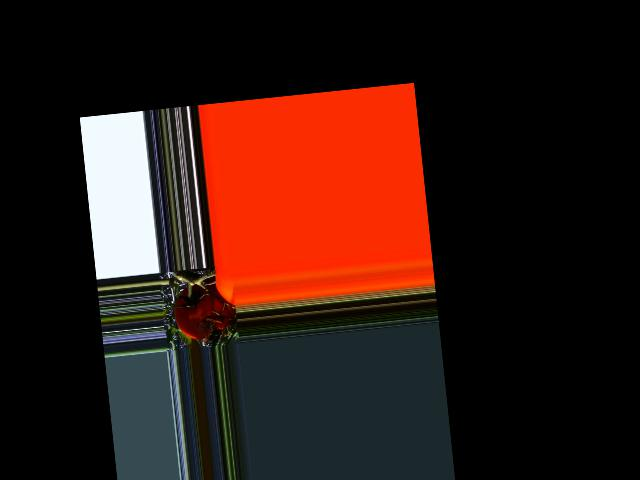tomato: (171, 280, 237, 343)
